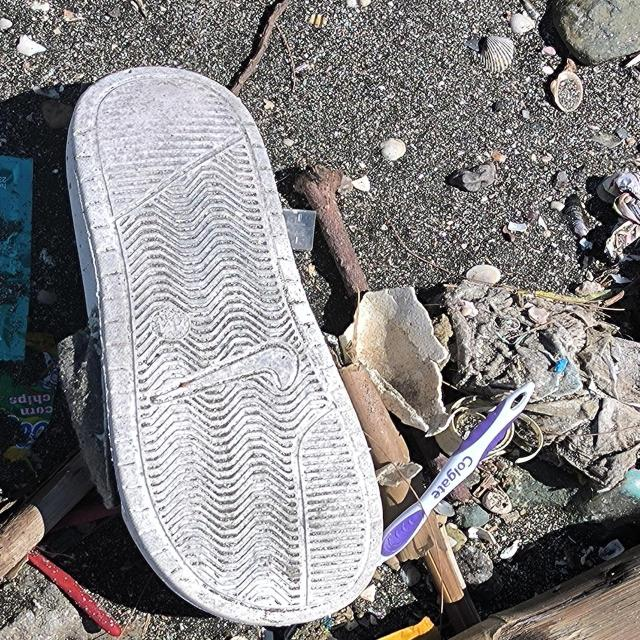rubber_waste: (67, 66, 387, 626)
